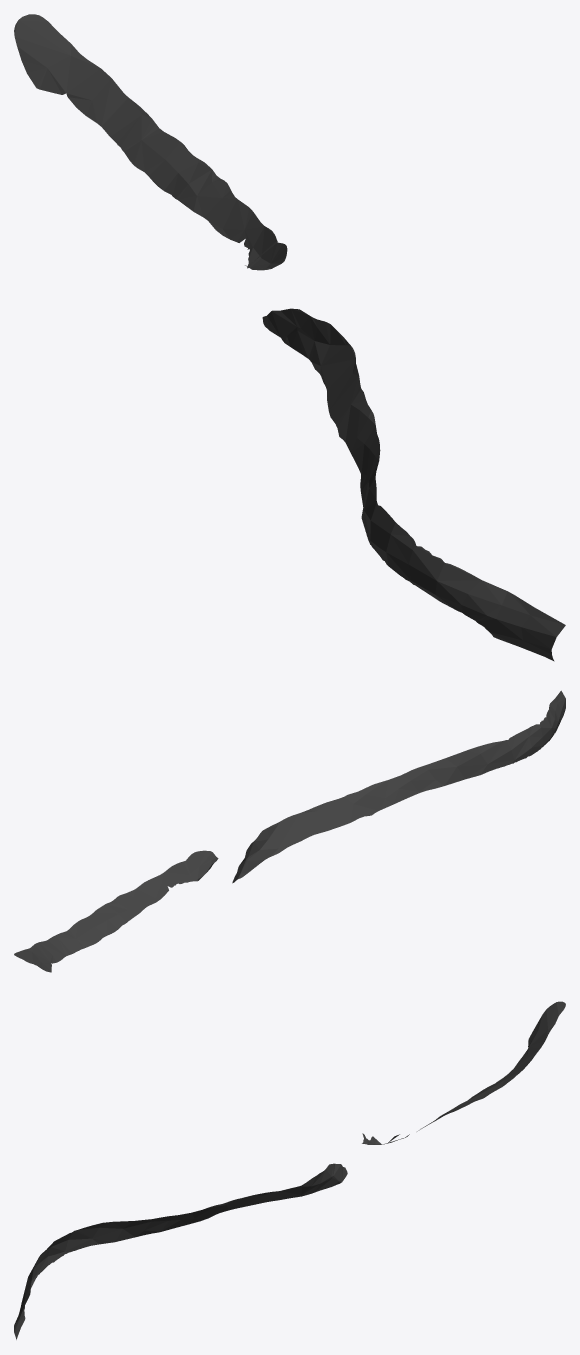
Rendered from nerve_med_palm_dig_palmar.glb.
The picture shows the model from 3 angles, top to bottom: view 1: azimuth 30°, elevation 25°; view 2: azimuth 150°, elevation 25°; view 3: azimuth 330°, elevation 25°; orthographic projection. The views are drawn at different scales.
Parts seen in each view (by area): view 1: nerve_med_palm_dig_palmar; view 2: nerve_med_palm_dig_palmar; view 3: nerve_med_palm_dig_palmar.
Boxes of the visible parts, box(x1,y1,x2,y2) form: nerve_med_palm_dig_palmar: box(14, 14, 565, 661); nerve_med_palm_dig_palmar: box(14, 690, 565, 972); nerve_med_palm_dig_palmar: box(14, 1001, 565, 1339).
Bounding box in the file's own units: 0.0406 × 0.0122 × 0.186.
Materials: 1 (1 with a texture image).
